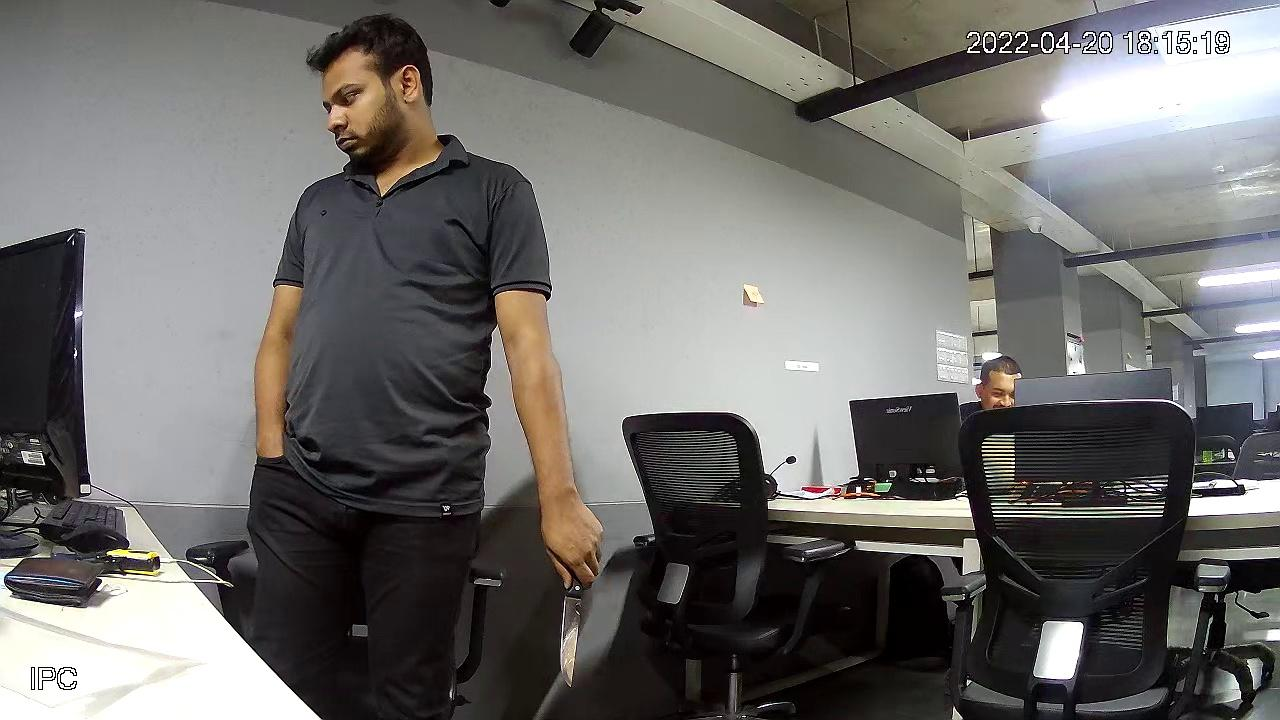knives: (551, 569, 601, 694)
